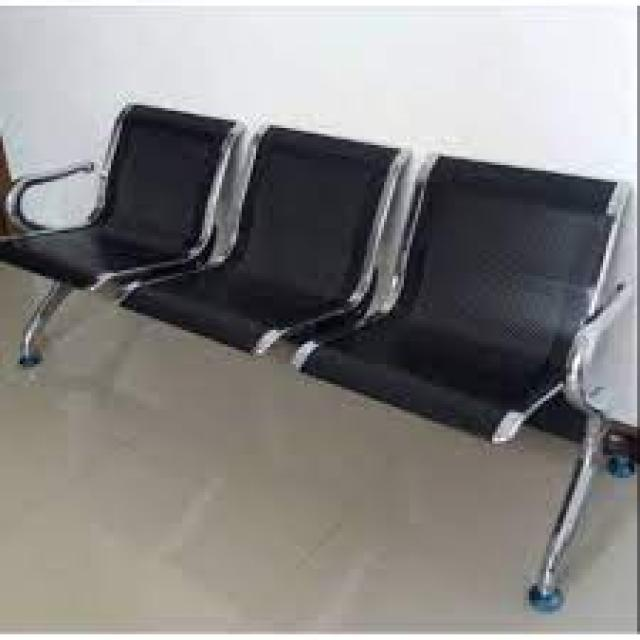chair: (12, 102, 636, 612)
